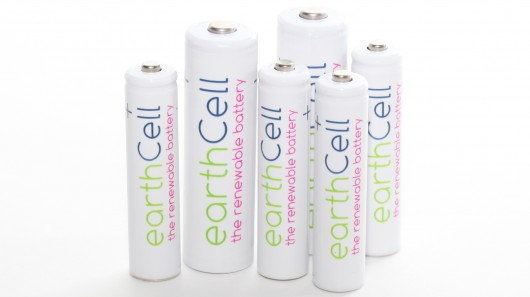Battery: (182, 17, 259, 275), (122, 60, 186, 283), (311, 67, 368, 293), (350, 39, 407, 258), (256, 59, 311, 281)
